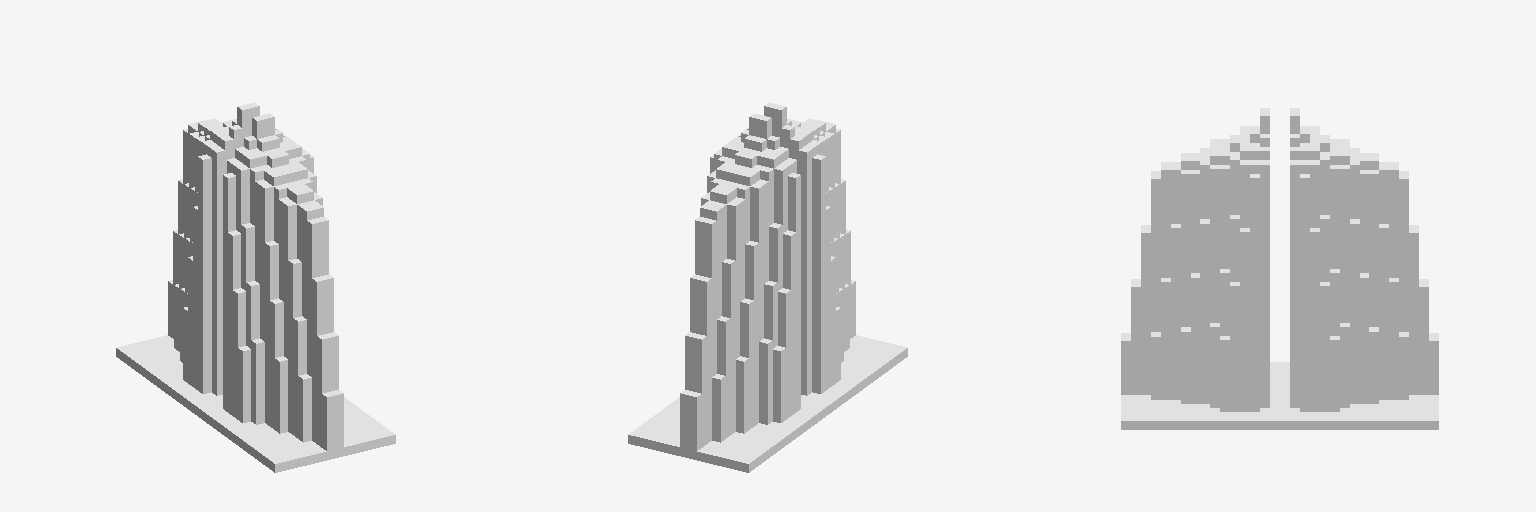
The model's file is obelisk.obj.
3 renders of one model, left to right at view 1: azimuth 30°, elevation 25°; view 2: azimuth 150°, elevation 25°; view 3: azimuth 270°, elevation 25°, orthographic.
Visible parts, largest first — view 1: object 1; view 2: object 1; view 3: object 1.
Boxes of the visible parts, x1=… form: object 1: x1=116, y1=102, x2=395, y2=472; object 1: x1=628, y1=102, x2=907, y2=472; object 1: x1=1121, y1=108, x2=1438, y2=429.
Size of the model in its own units: 1.4 by 3.2 by 3.2.